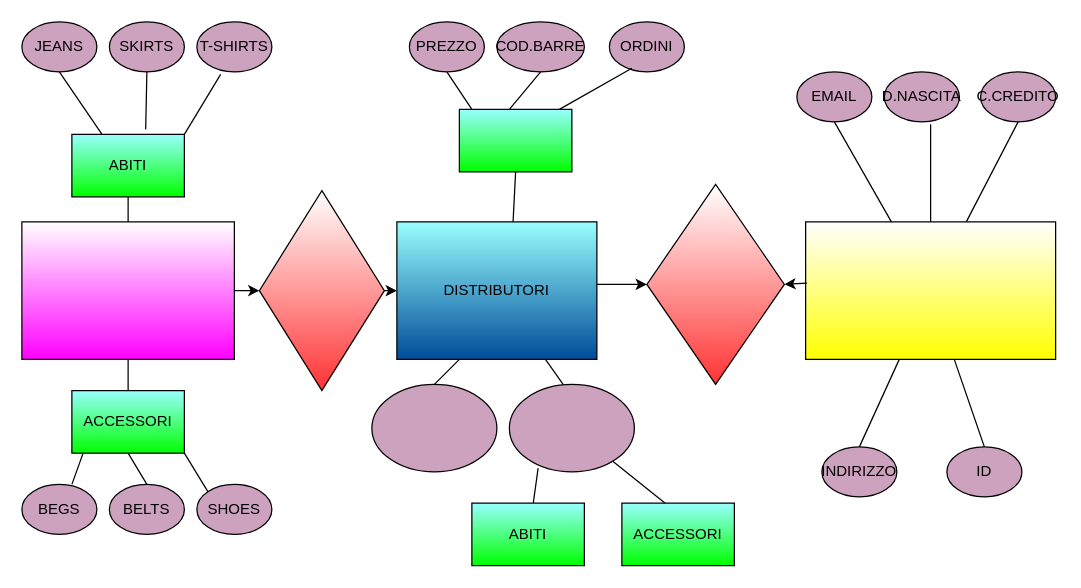
This 1081x588 diagram has some shape labels left out. Here are the shapes that lost their labels. From the top down, the box of each, then its label:
(458, 108, 572, 172): ARTICOLI
(21, 221, 234, 359): FORNITORI
(258, 189, 384, 391): RIFORNIMENTO
(646, 183, 784, 384): ACQUISTO
(804, 221, 1056, 359): CLIENTI
(371, 383, 497, 472): MAGAZZINO
(508, 383, 634, 472): REPARTI
